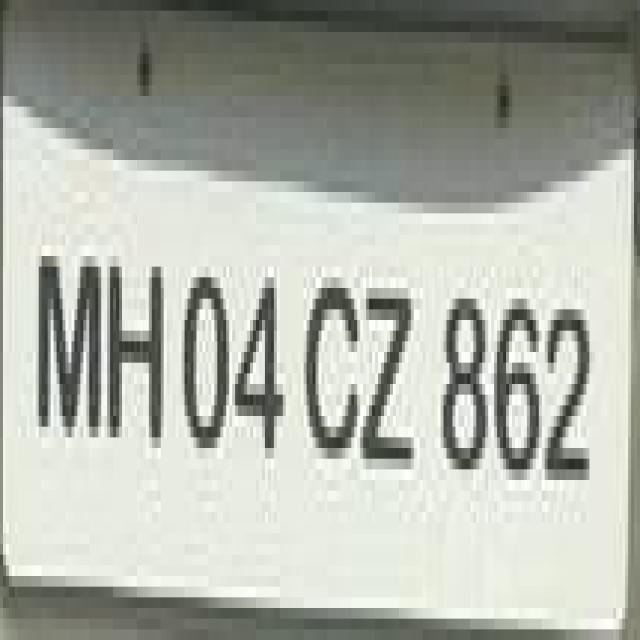plate: (18, 128, 640, 640)
